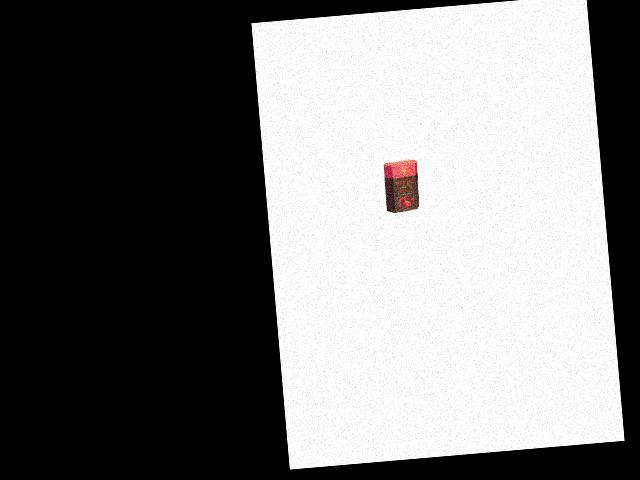chocolate: (381, 157, 421, 218)
